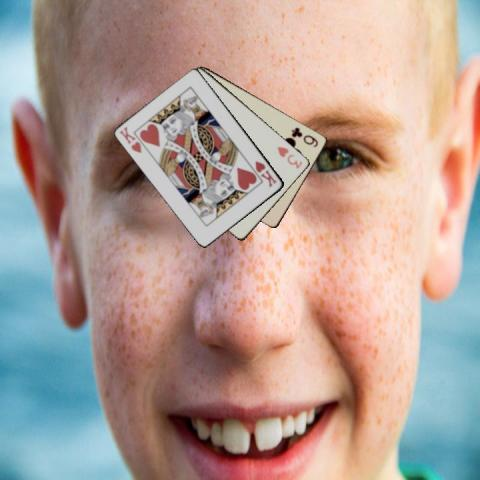3h: (275, 143, 304, 170)
6c: (289, 124, 320, 149)
Kh: (252, 158, 279, 189), (117, 124, 143, 154)
